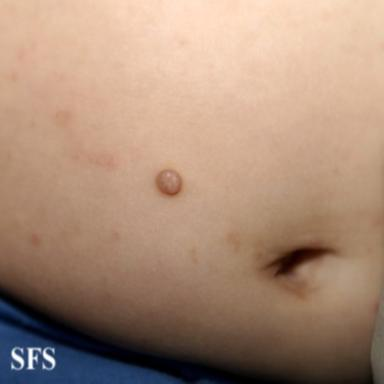Molluscum-Contagiosum: (157, 170, 181, 195)
